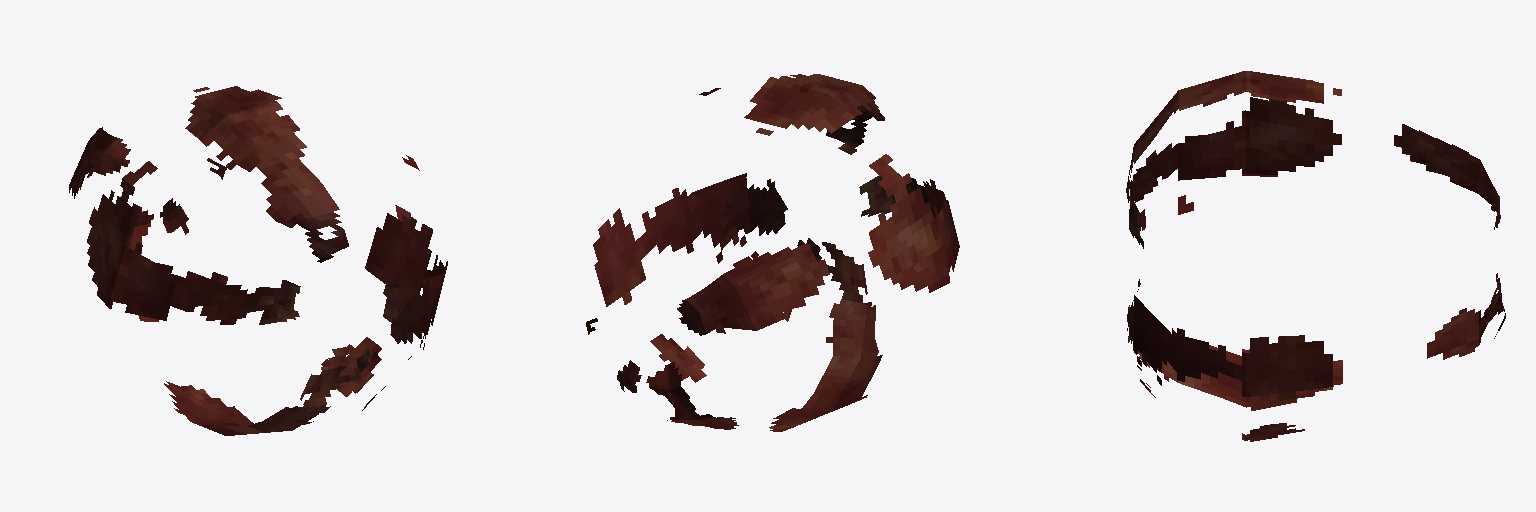
3 renders of one model, left to right at view 1: azimuth 30°, elevation 25°; view 2: azimuth 150°, elevation 25°; view 3: azimuth 270°, elevation 25°, orthographic.
Parts seen in each view (by area): view 1: mtl_p_jun_fruit_apple; view 2: mtl_p_jun_fruit_apple; view 3: mtl_p_jun_fruit_apple.
Part boxes in pixels (x1,y1,x2,y2): mtl_p_jun_fruit_apple: (69, 86, 447, 435); mtl_p_jun_fruit_apple: (586, 74, 959, 431); mtl_p_jun_fruit_apple: (1126, 71, 1505, 441).
Bounding box in the file's own units: 10.7 × 10.47 × 12.73.
1 materials, 1 textured.